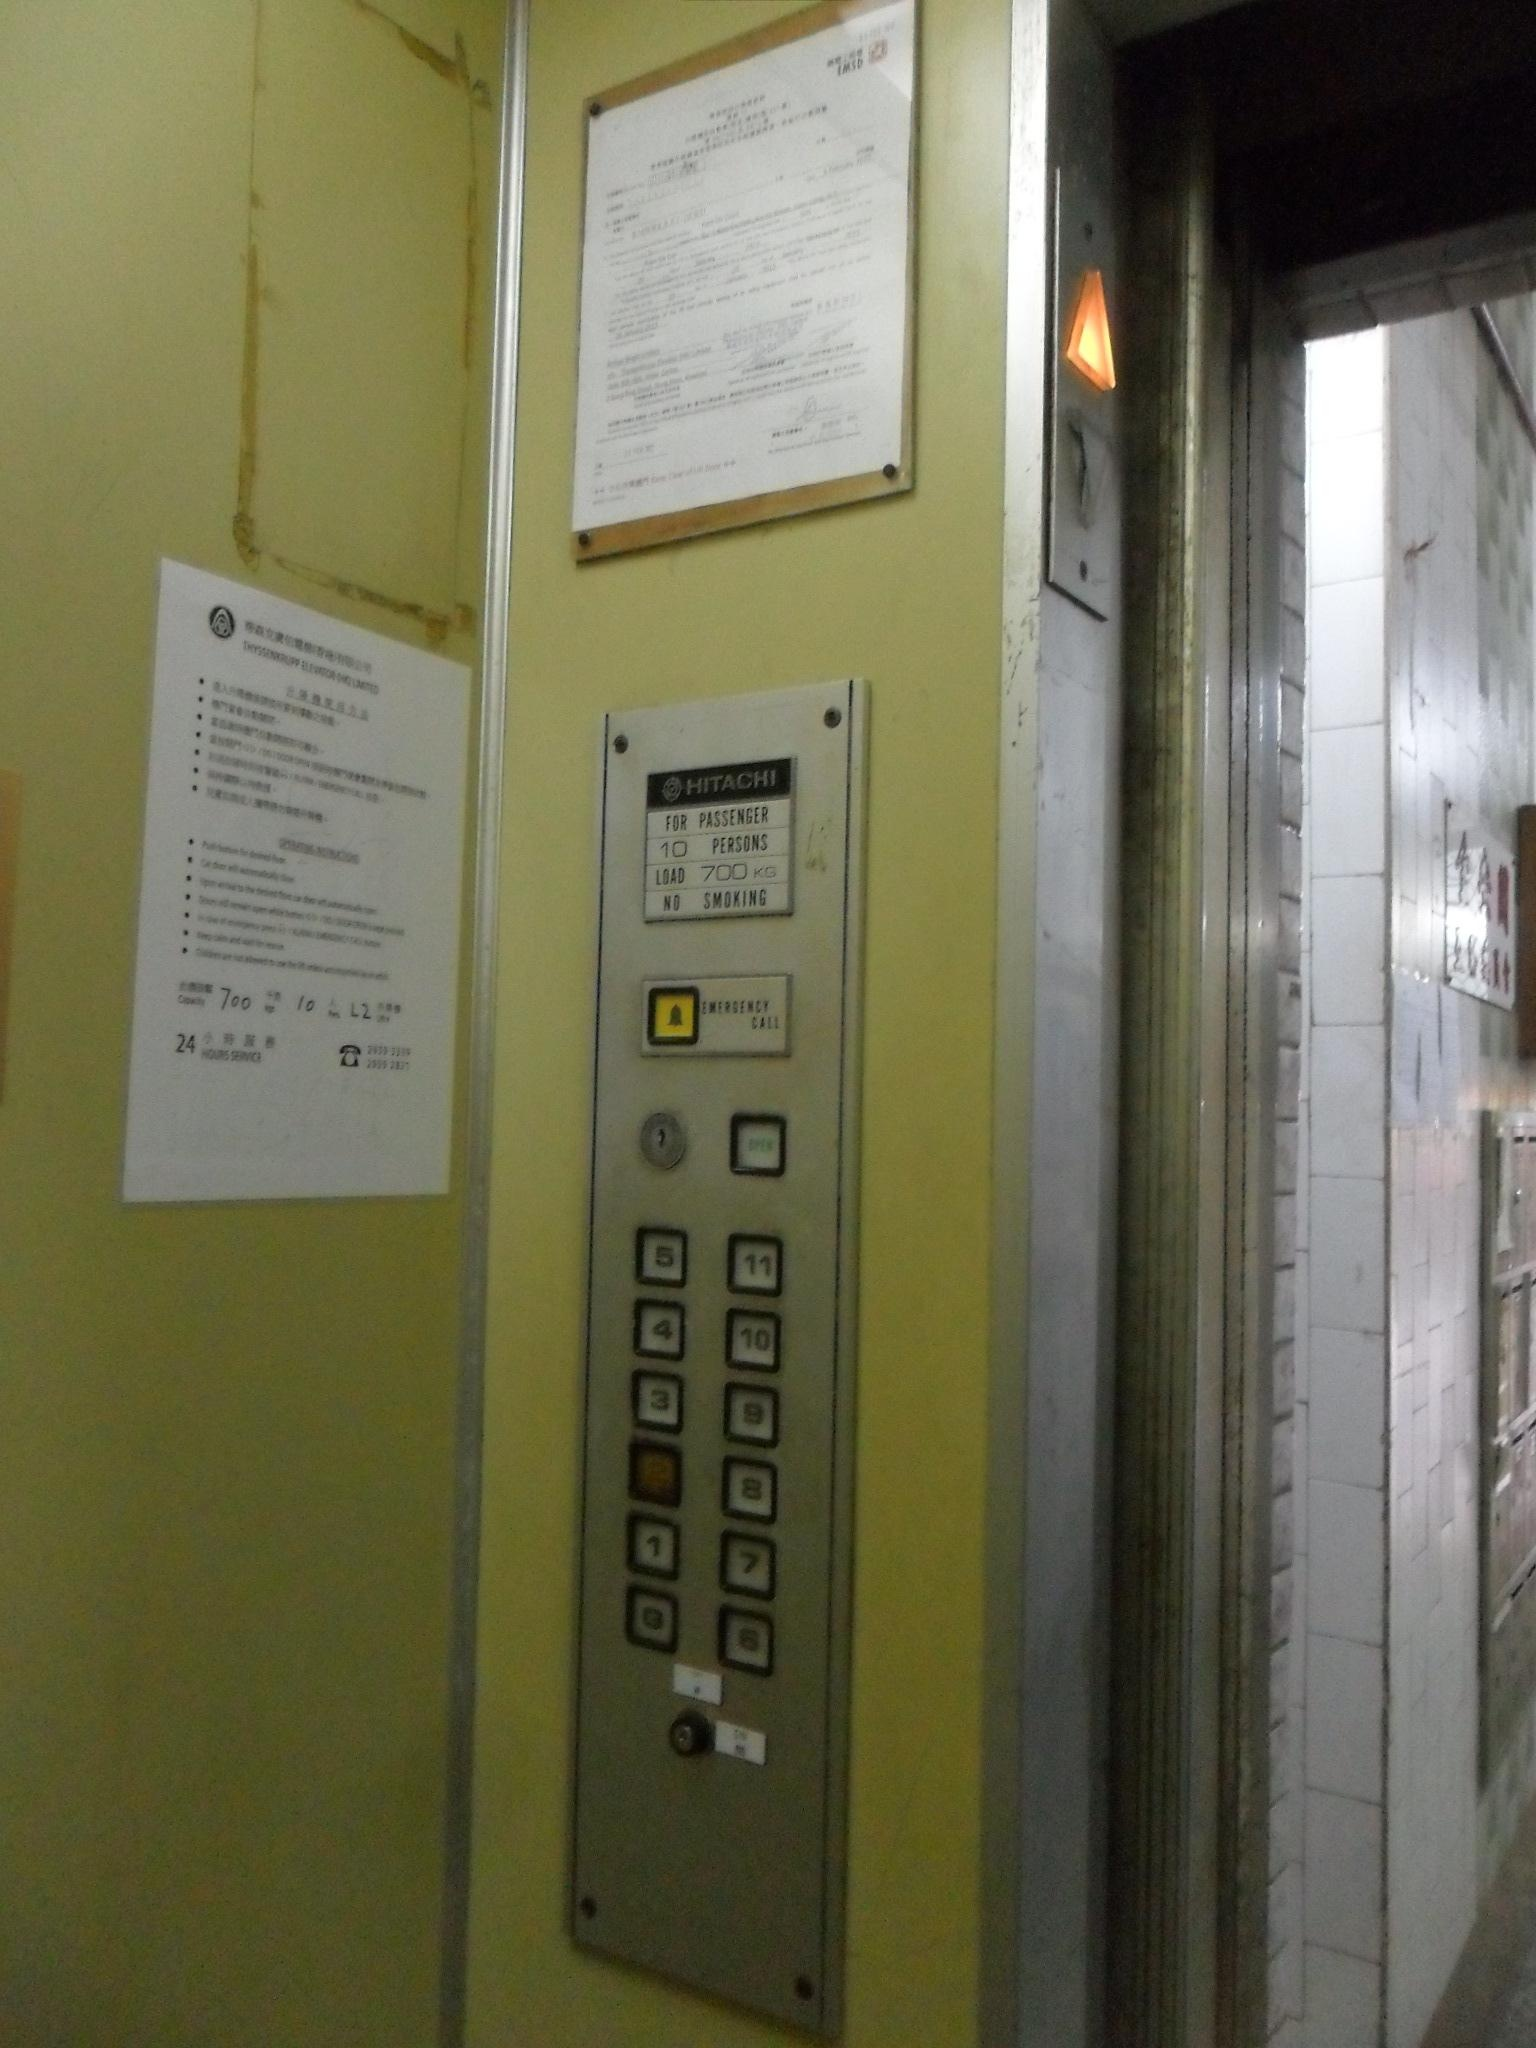1: (624, 1513, 681, 1577)
10: (724, 1306, 781, 1374)
11: (728, 1234, 783, 1297)
2: (628, 1438, 681, 1506)
3: (629, 1369, 682, 1432)
4: (632, 1300, 686, 1361)
5: (634, 1224, 687, 1288)
6: (716, 1605, 771, 1675)
7: (720, 1529, 776, 1600)
8: (721, 1455, 778, 1524)
9: (723, 1382, 779, 1450)
G: (623, 1587, 678, 1650)
alarm: (645, 985, 702, 1047)
keyhole: (637, 1114, 682, 1169), (666, 1709, 712, 1759)
text_blur: (728, 1109, 787, 1179)
